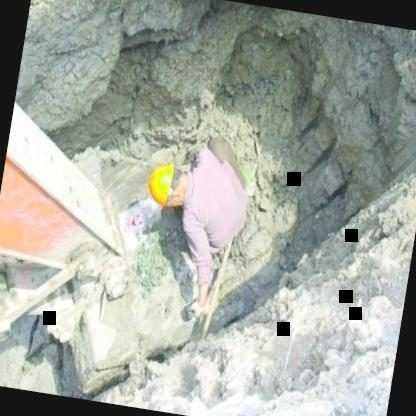helmet: (142, 158, 191, 216)
